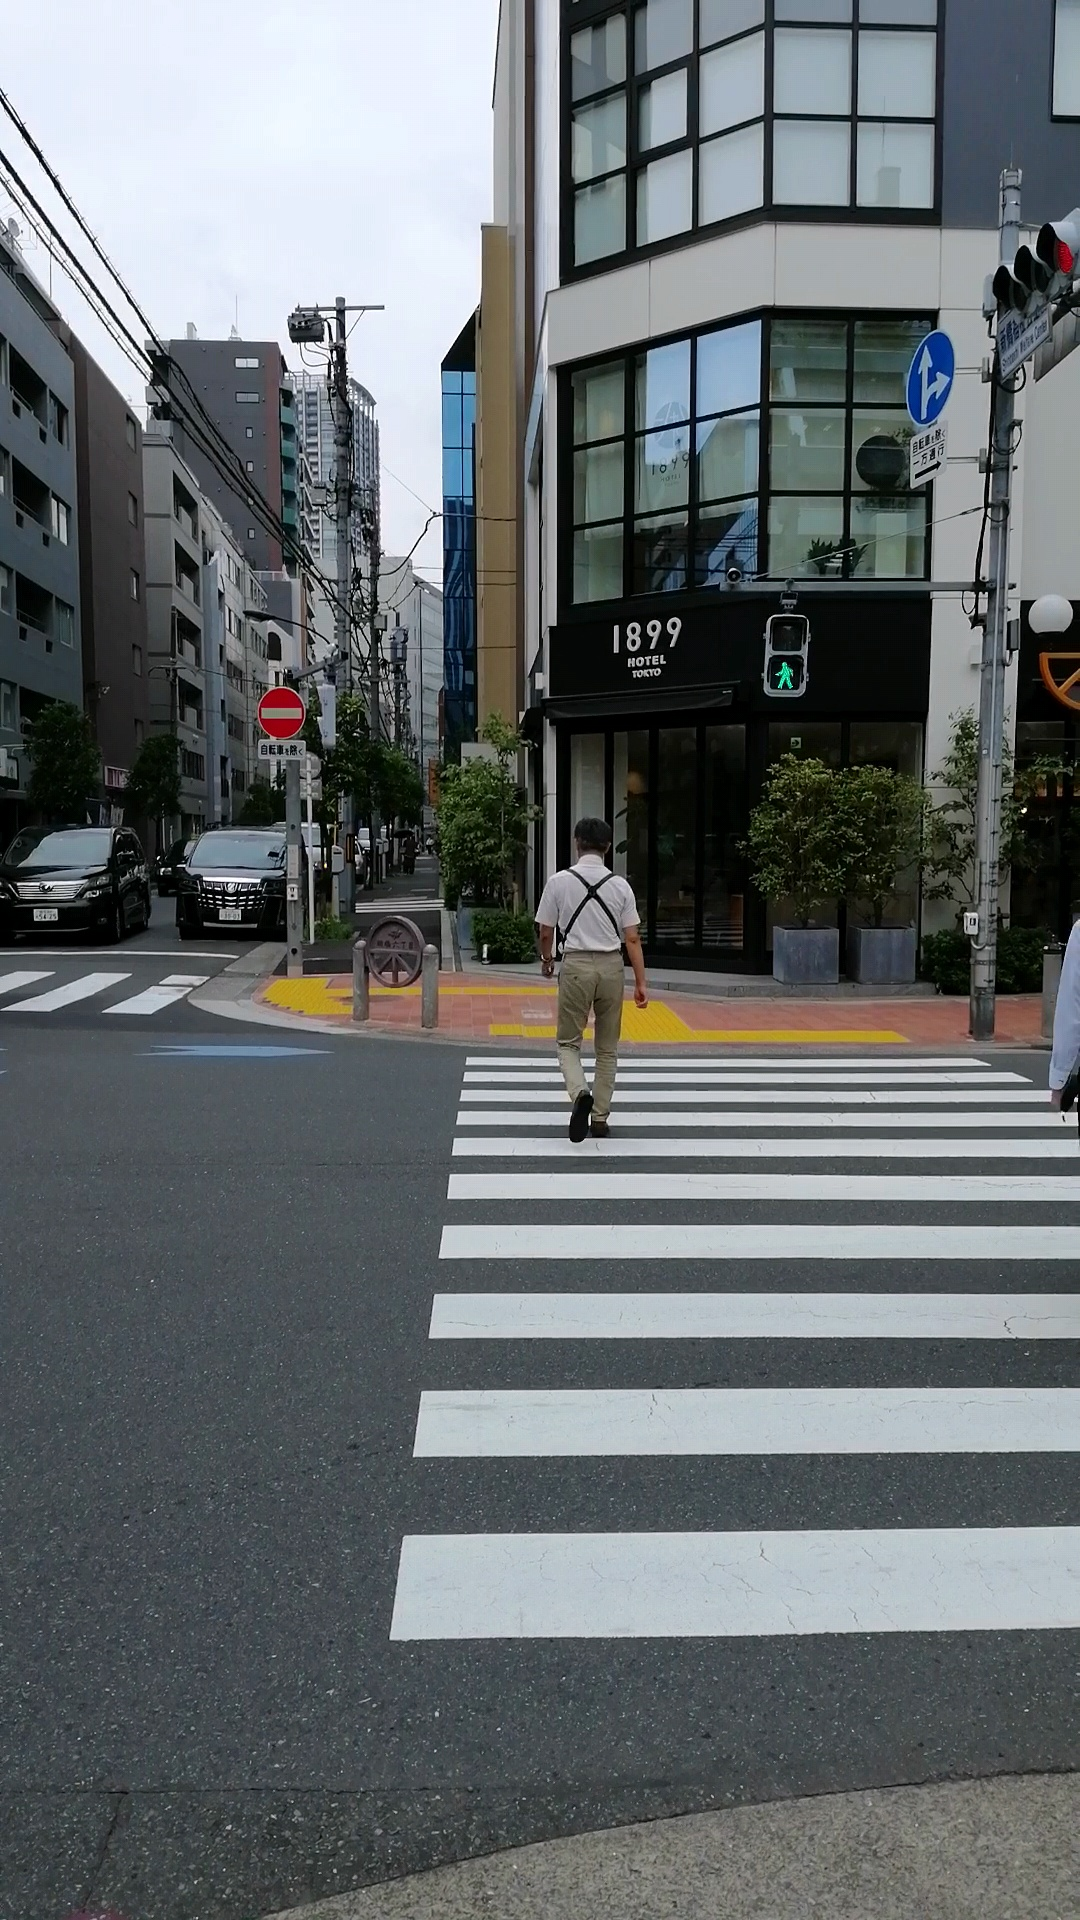green: (764, 612, 806, 700)
